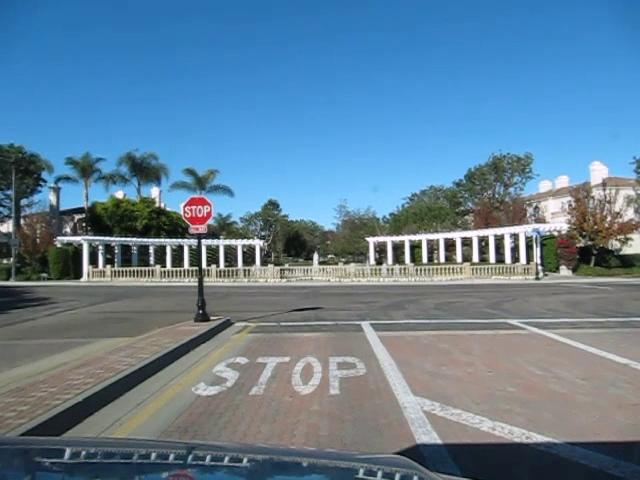stop: (181, 194, 213, 226)
